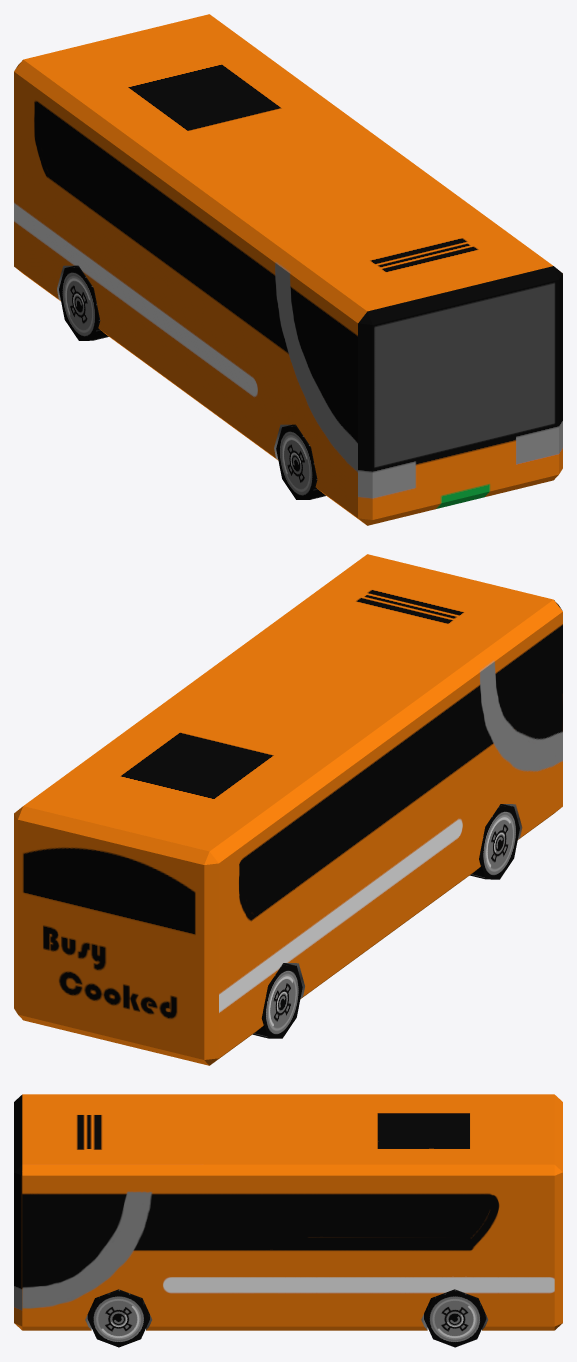
The model's file is bus.FBX.
3 renders of one model, top to bottom at view 1: azimuth 30°, elevation 25°; view 2: azimuth 150°, elevation 25°; view 3: azimuth 270°, elevation 25°, orthographic. The views are drawn at different scales.
Visible parts, largest first — view 1: Box001, Cylinder005, Cylinder003; view 2: Box001, Cylinder003, Cylinder005; view 3: Box001, Cylinder004, Cylinder006.
Boxes of the visible parts, <box> form: Box001: <box>14,14,562,525</box>; Cylinder005: <box>59,265,108,340</box>; Cylinder003: <box>276,424,325,499</box>; Box001: <box>14,554,562,1065</box>; Cylinder003: <box>470,804,519,879</box>; Cylinder005: <box>252,963,302,1038</box>; Box001: <box>14,1094,562,1330</box>; Cylinder004: <box>87,1289,149,1347</box>; Cylinder006: <box>424,1289,486,1347</box>.
Size of the model in its own units: 40 by 120 by 43.33.
Materials: 2 (2 with a texture image).
